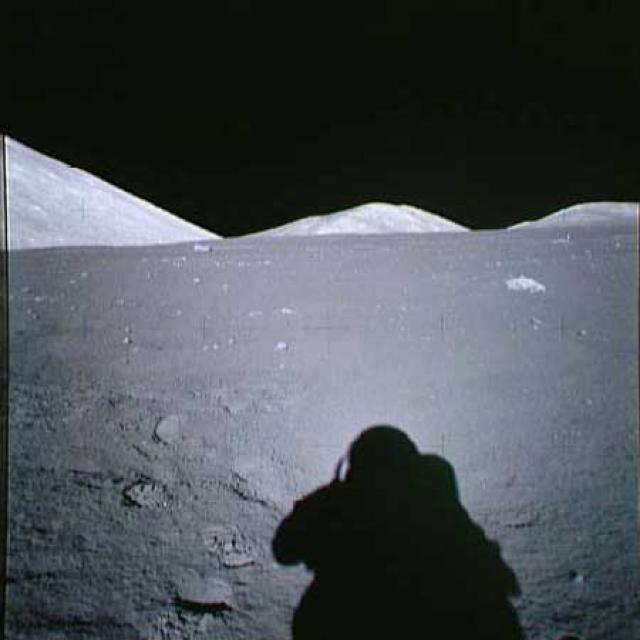rock: (501, 268, 548, 298), (187, 237, 211, 256)
